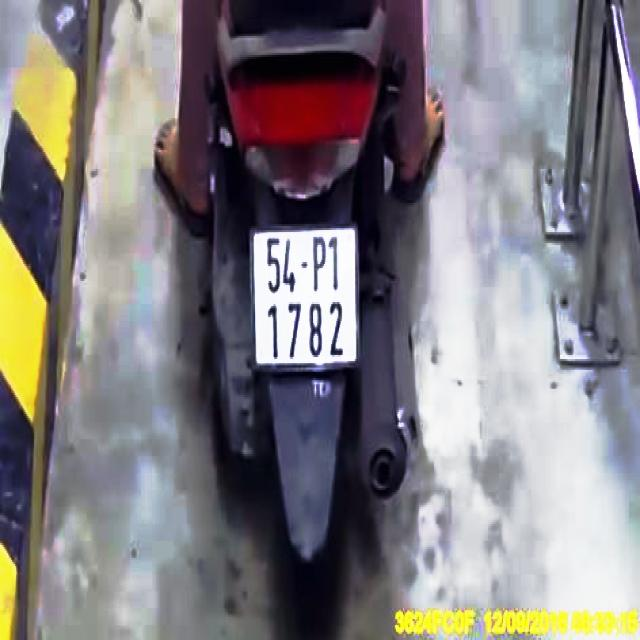license_plate: (252, 229, 359, 363)
